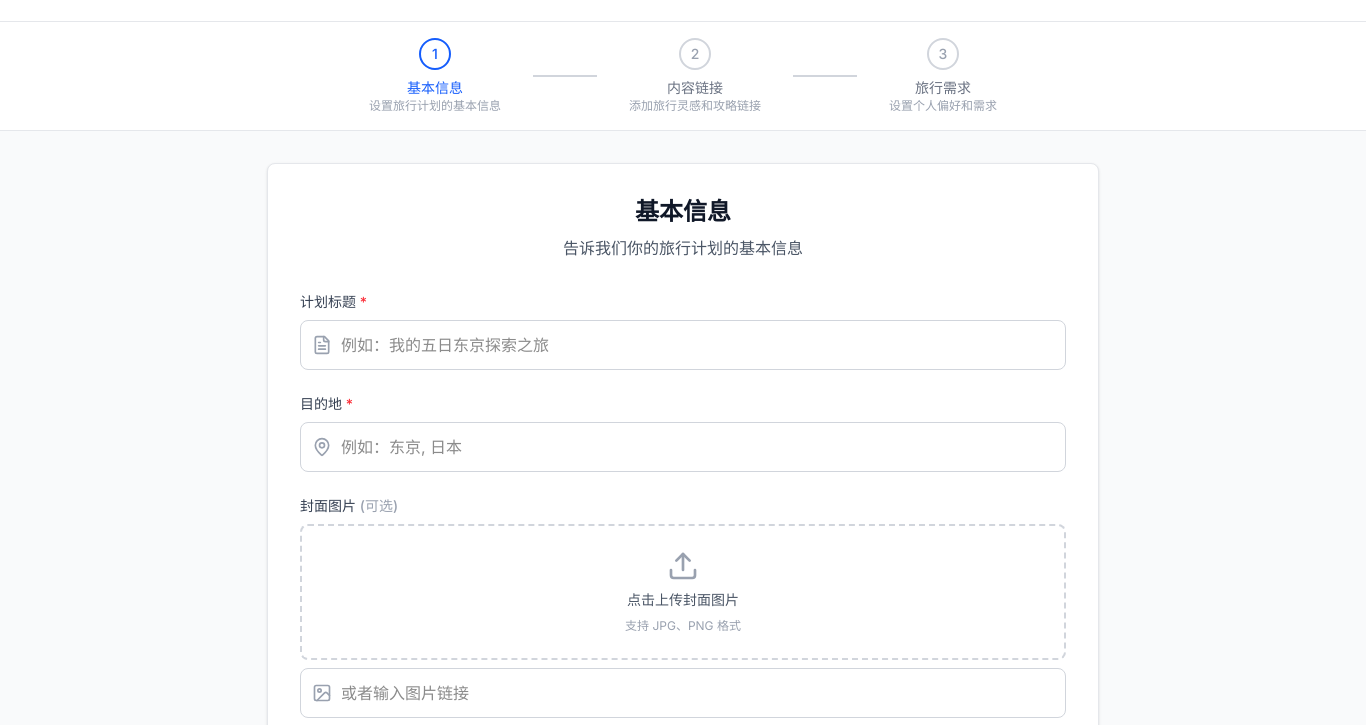
Test case: CreateNotePage › maintains form data when navigating between steps
// Fill basic info
In the field labelled "计划标题 *": {"x": 683, "y": 345} 300,320 -> 1066,370, type "我的测试旅行"
(page scrolled)
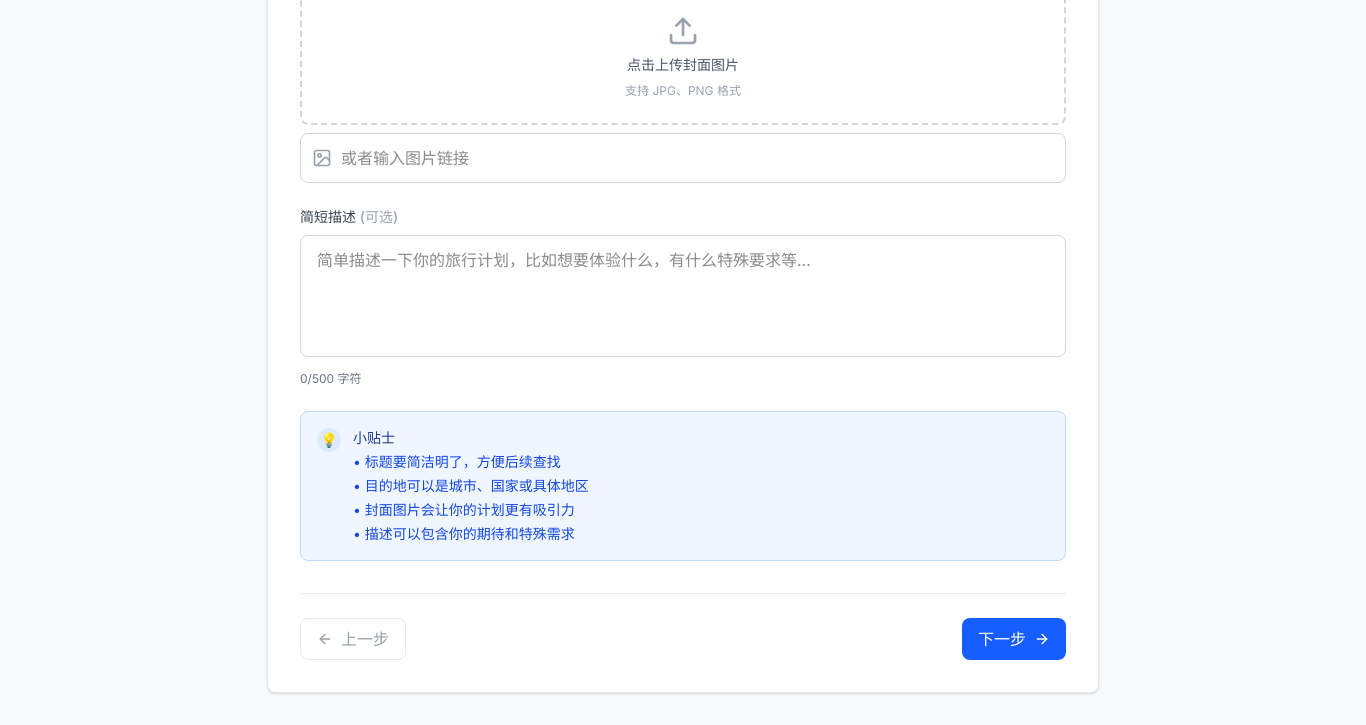
// Go to next step and back
Click the button "下一步": {"x": 1014, "y": 639} 962,618 -> 1066,660
(page scrolled)
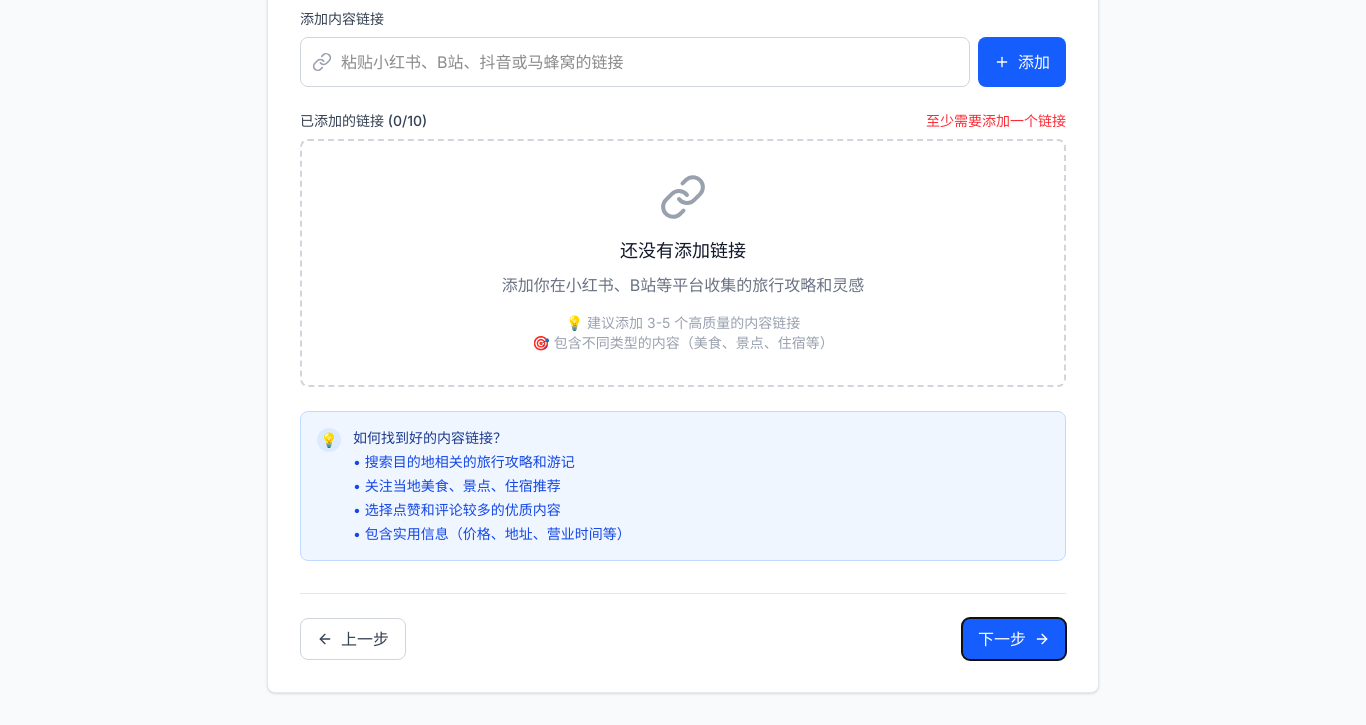
Click the button "上一步": {"x": 353, "y": 639} 300,618 -> 406,660
(page scrolled)
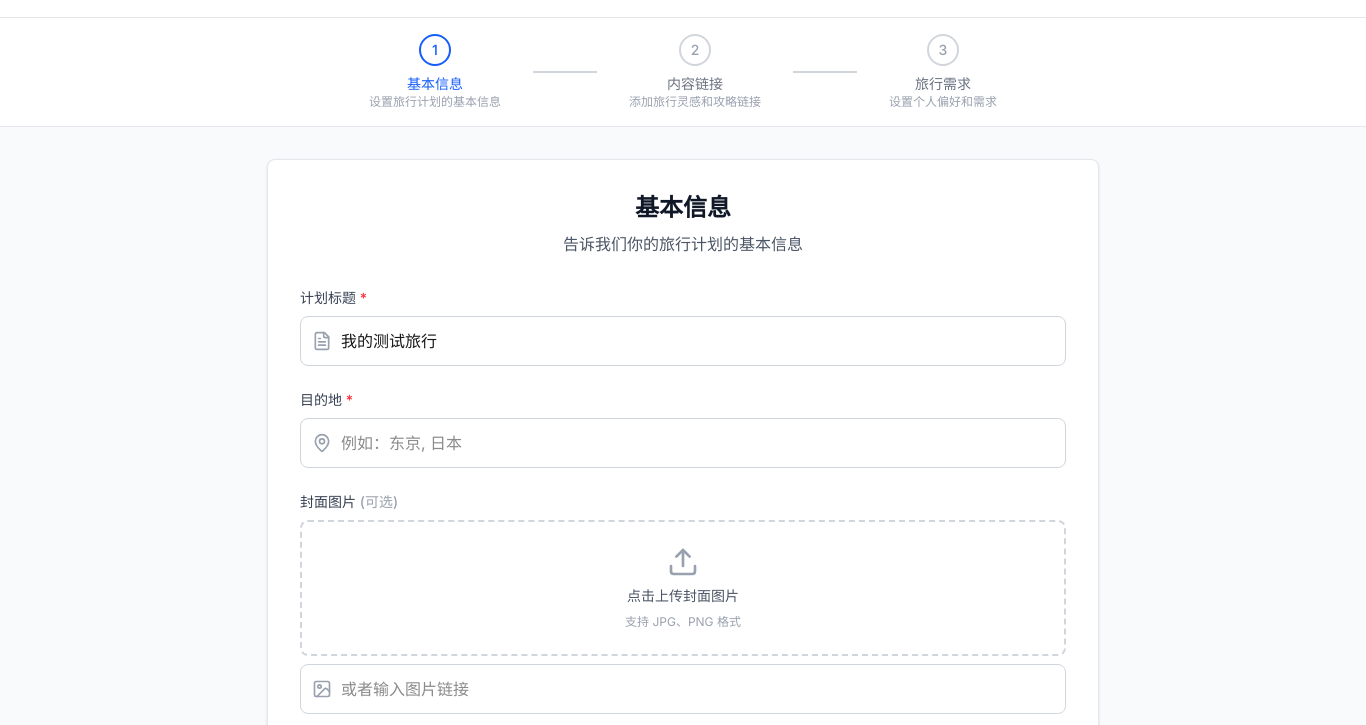
Expected: the text "基本信息" is shown 2 times, 407,75 -> 463,92; 635,193 -> 731,222
Expected: the field showing "我的测试旅行" holds "我的测试旅行", 300,316 -> 1066,366
